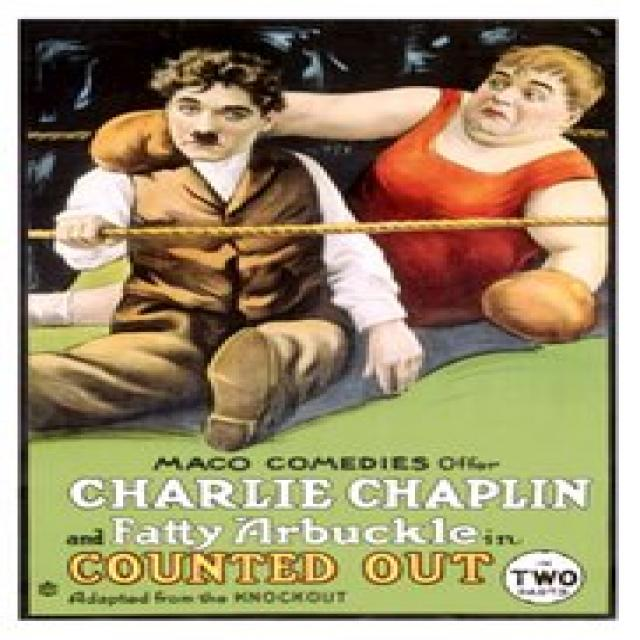movie-judul: (64, 474, 601, 588)
picture: (21, 18, 615, 453)
